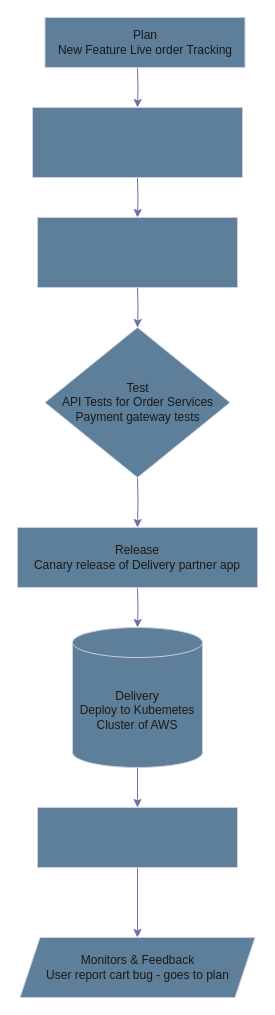
The diagram is 275 pixels wide and 1015 high, and some of its shapes have lost their labels. The shapes that lost their labels are listed below. From the top down, each one's box as (x1, y1, x2, y2) in pixels, then its label:
(32, 106, 242, 178): Code Restaurant Service,User Service, order Service
(36, 216, 238, 288): Build Dockerize backend, Fastlane mobile builds
(36, 806, 238, 868): Operate Monitor surge in during IPL match
